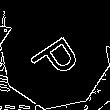P_NE: (24, 25, 86, 85)
